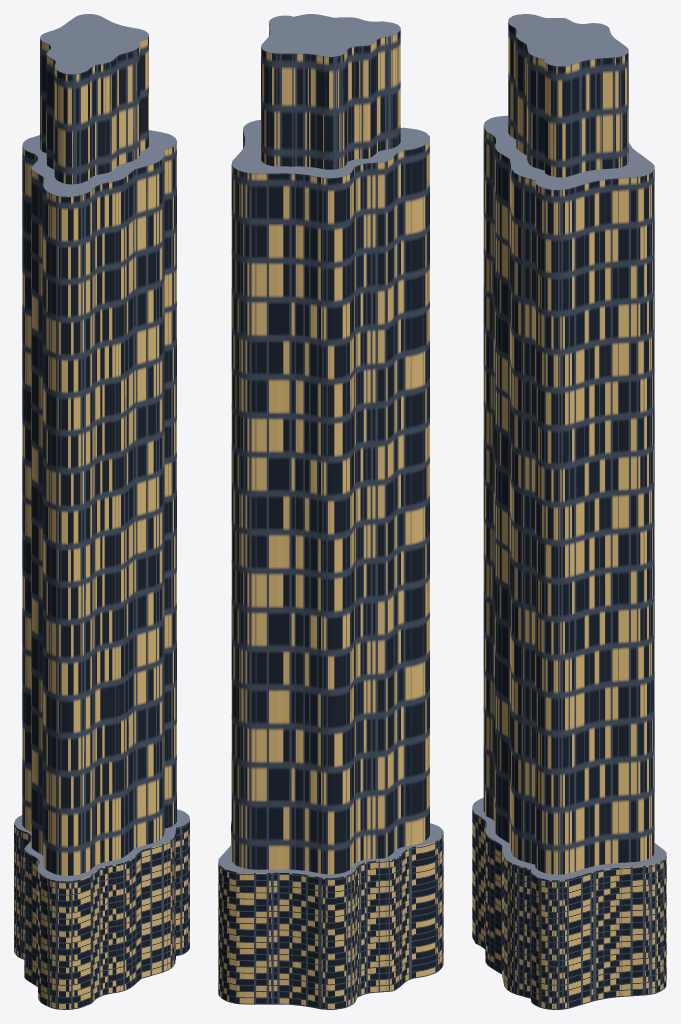
File: 40-charter-street.glb
3 views of the same model, side by side, from view 1: azimuth 30°, elevation 25°; view 2: azimuth 150°, elevation 25°; view 3: azimuth 270°, elevation 25° (orthographic). The views are drawn at different scales.
Parts seen in each view (by area): view 1: 40-charter-street; view 2: 40-charter-street; view 3: 40-charter-street.
Boxes of the visible parts, left/top/right/bottom form: 40-charter-street: left=14, top=14, right=189, bottom=1009; 40-charter-street: left=218, top=14, right=443, bottom=1009; 40-charter-street: left=472, top=14, right=666, bottom=1009.
Bounding box in the file's own units: 0.4556 × 2.33 × 0.4425.
2 materials, 1 textured.
